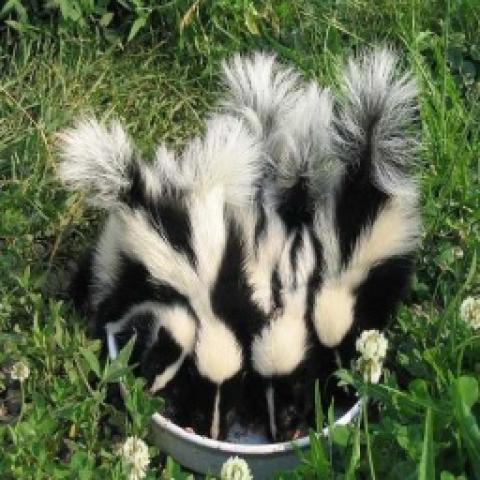small_animal: (214, 55, 330, 444), (310, 65, 426, 418), (70, 145, 218, 410), (172, 120, 253, 442)
